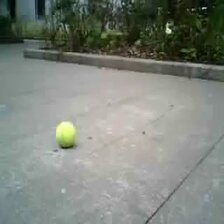tennis: (55, 121, 75, 146)
